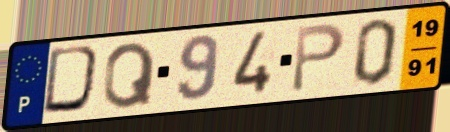0: (350, 16, 401, 89)
4: (230, 28, 274, 98)
9: (175, 32, 221, 105)
D: (38, 43, 107, 117)
P: (288, 21, 348, 96)
Q: (102, 40, 158, 112)
